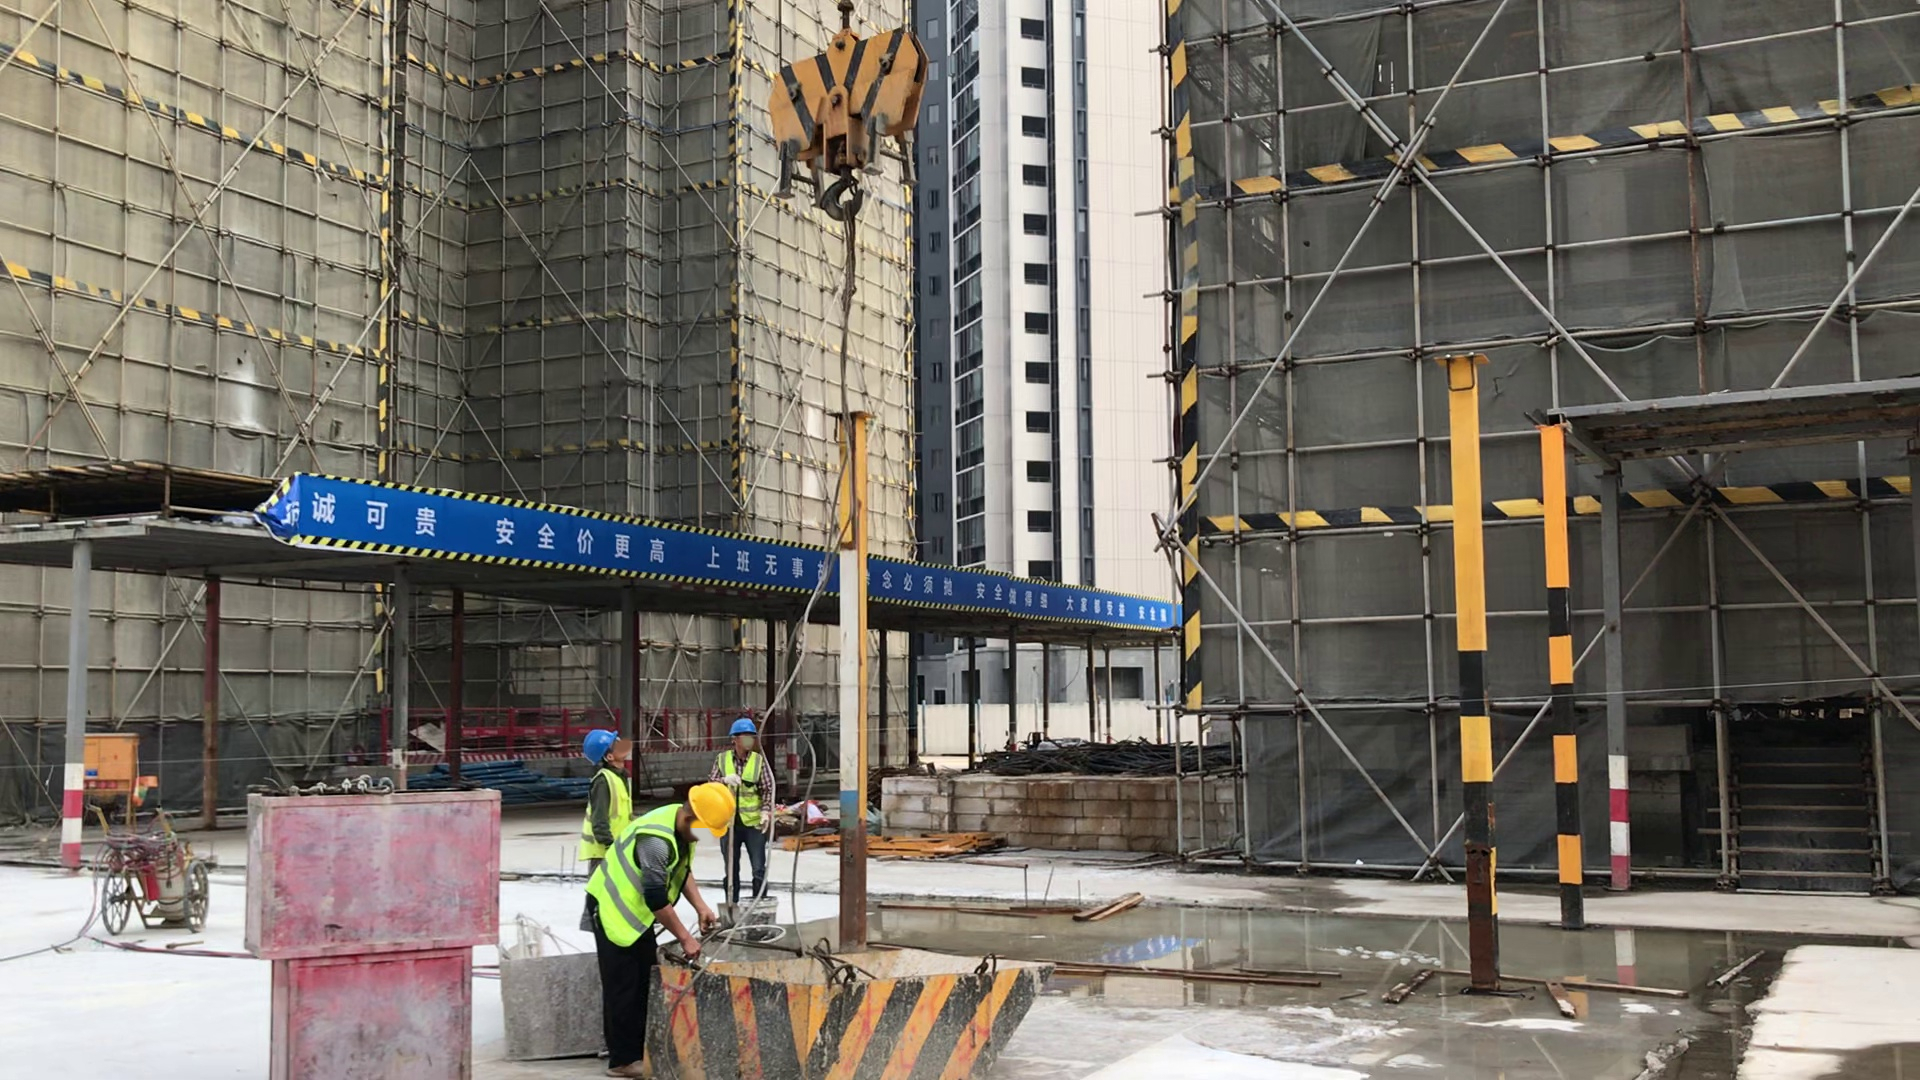ebox: (83, 725, 142, 832)
fence: (468, 704, 579, 759), (644, 704, 722, 749)
handcart: (92, 804, 215, 939)
helmet: (686, 780, 737, 837), (579, 730, 619, 765), (727, 719, 759, 737)
hook: (778, 16, 918, 219)
hopper: (645, 935, 1069, 1079), (493, 913, 595, 1067)
person: (577, 782, 746, 985), (716, 718, 780, 901), (574, 728, 637, 870)
slogan: (293, 475, 815, 602), (877, 556, 1174, 635)
